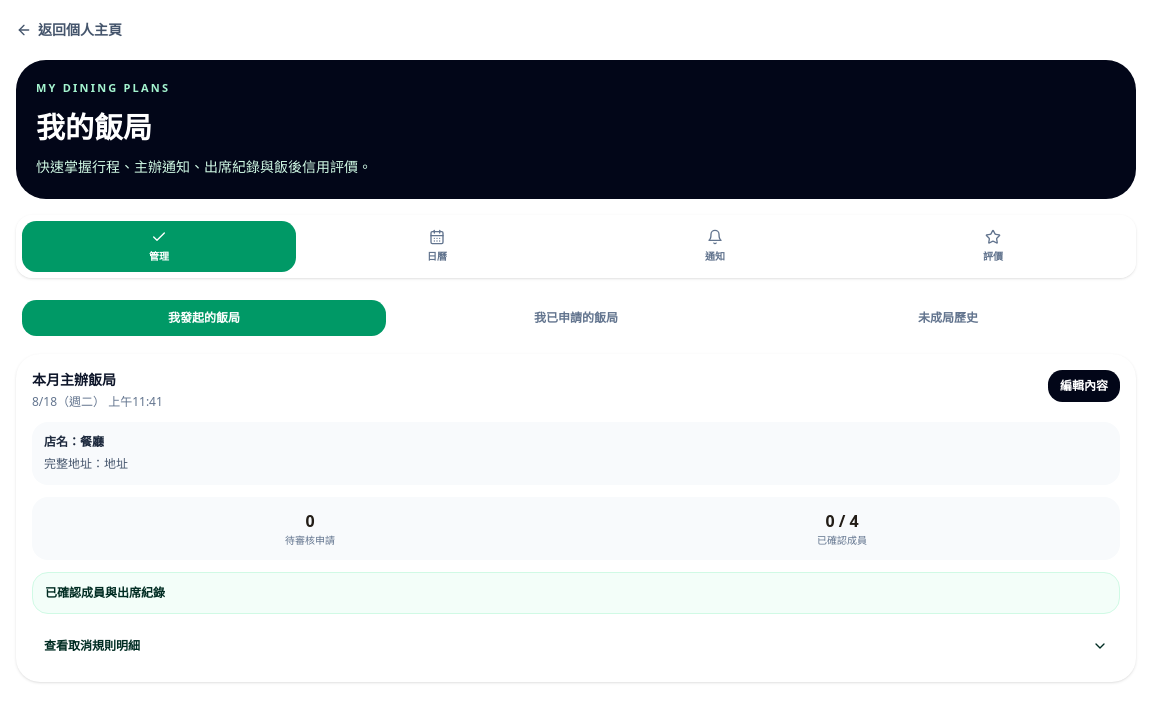
Test: MyEventsManagement 進階飯局管理 › 可依主辦與參與分類飯局，並切換該飯局的提醒狀態
The image size is (1152, 720).
Expected: the text "本月主辦飯局" is shown, [32, 370, 116, 389]
Click the button "日曆".
click(437, 246)  # box [300, 221, 574, 272]
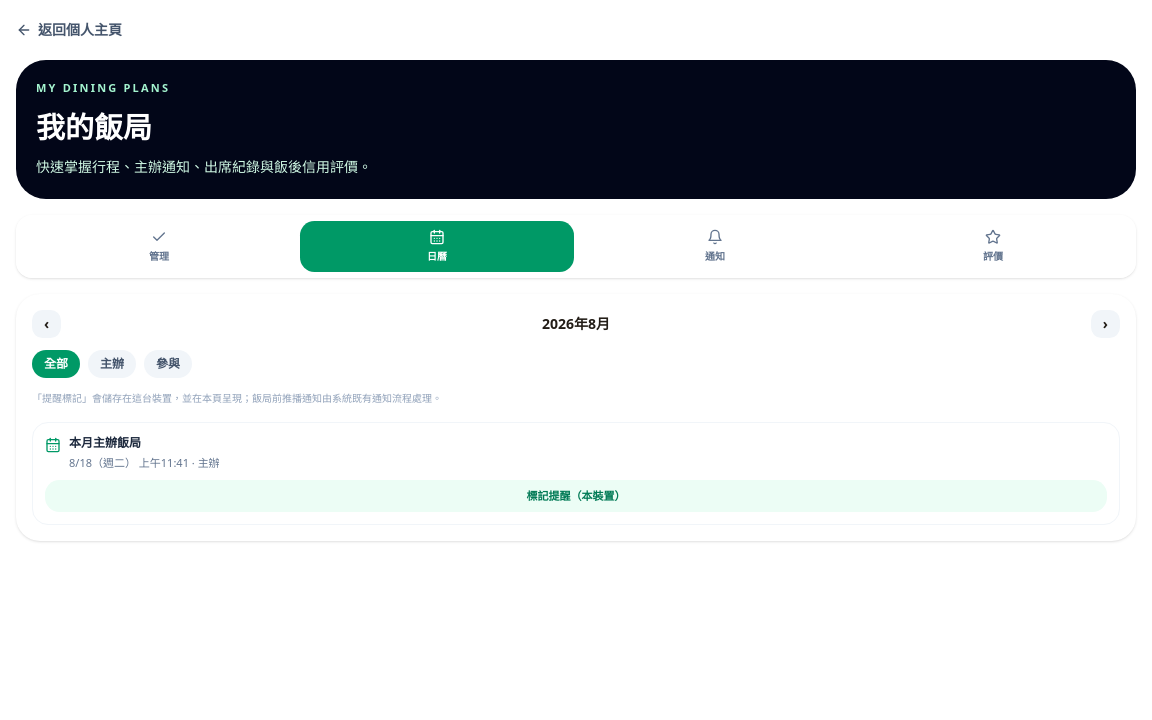
Expected: the text "本月主辦飯局" is shown, [69, 434, 141, 451]
Click the button "參與".
click(168, 364)  # box [144, 350, 192, 378]
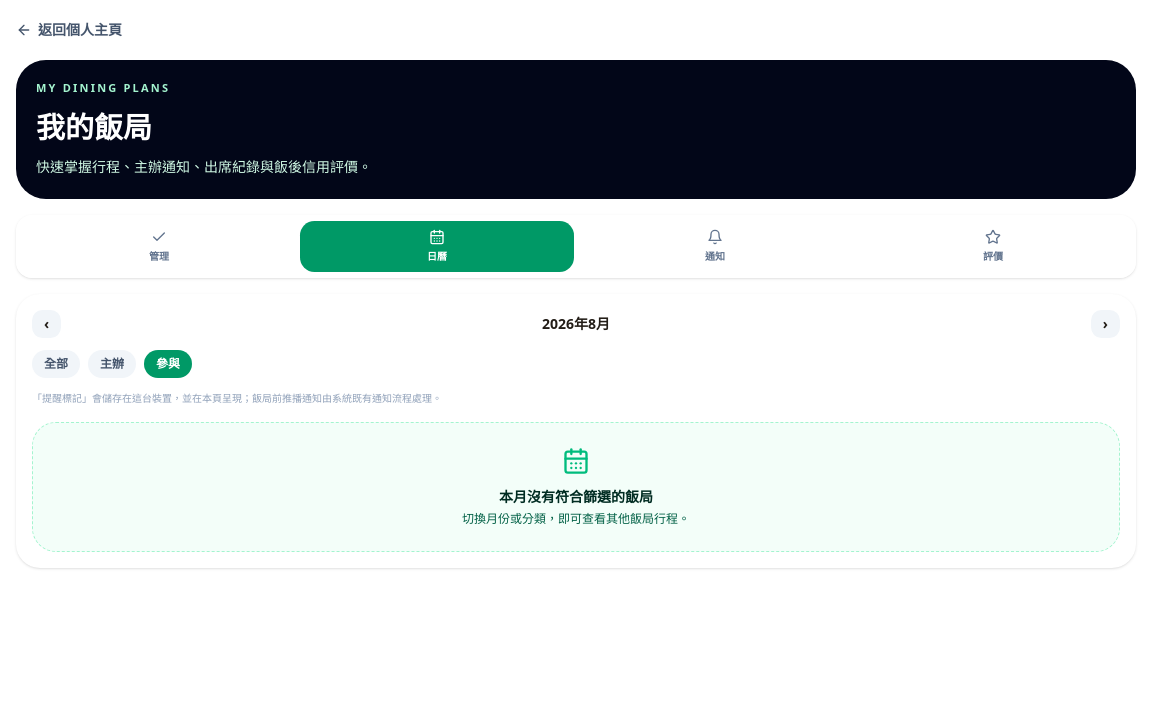
Expected: the text "本月沒有符合篩選的飯局" is shown, [499, 487, 653, 506]
Click the button "主辦".
click(112, 364)  # box [88, 350, 136, 378]
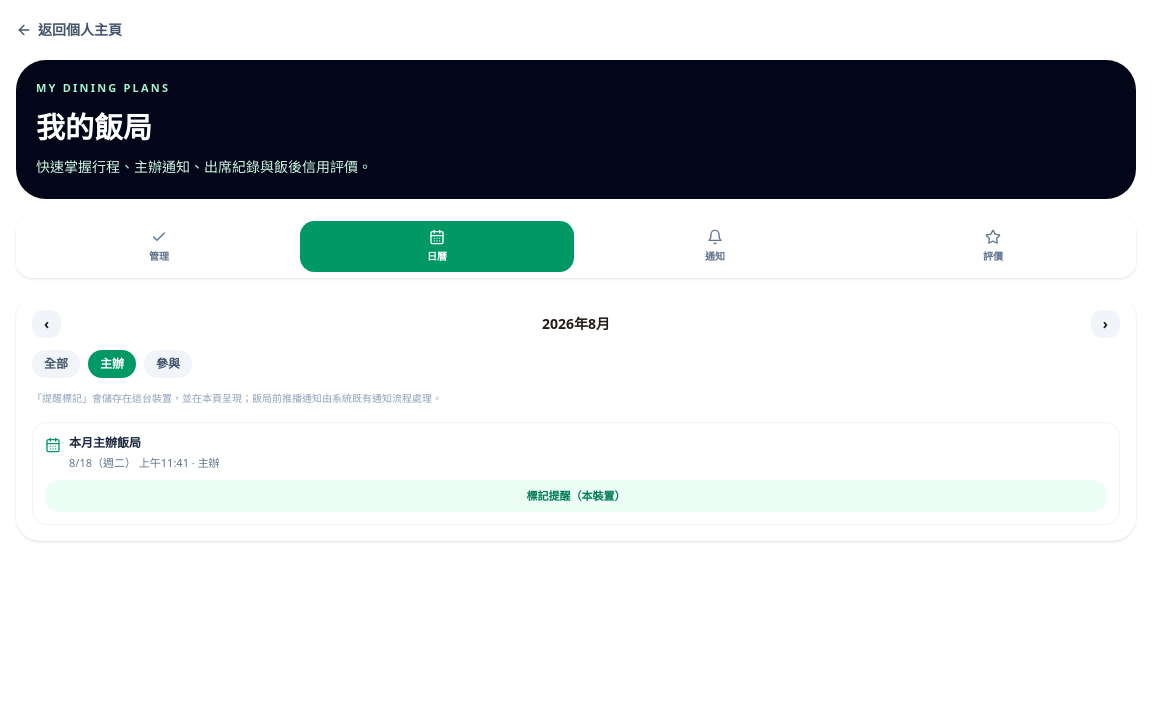
Click the button "標記提醒（本裝置）".
click(576, 496)  # box [45, 480, 1107, 512]
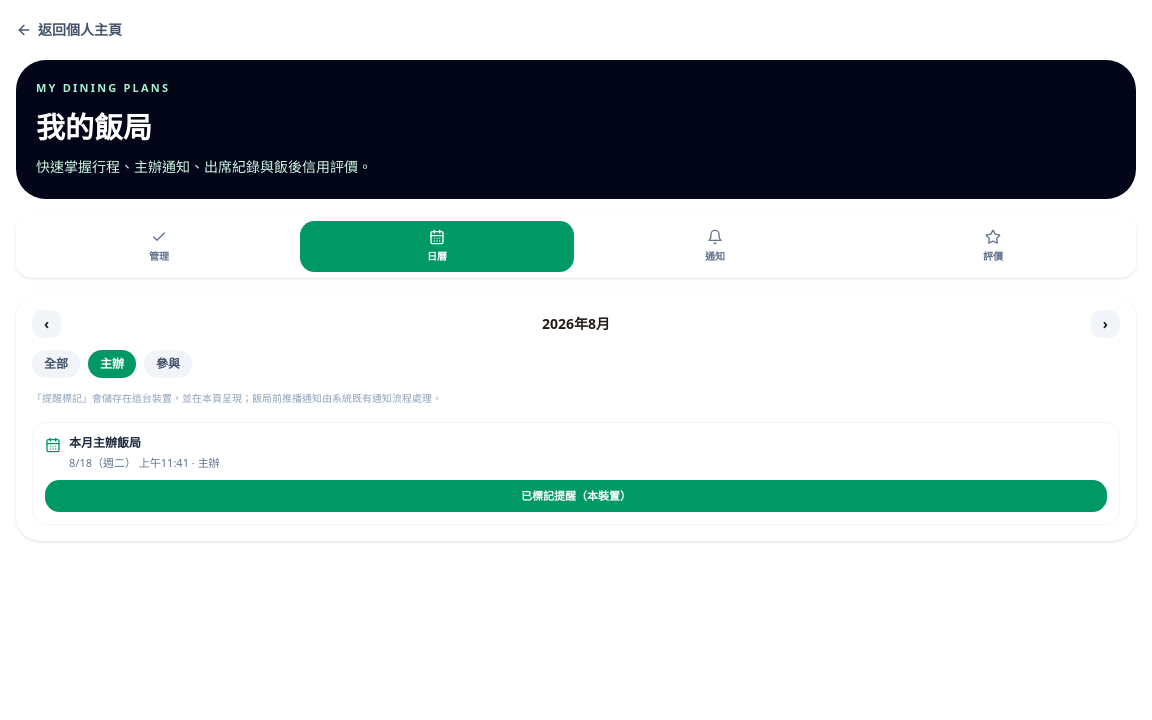
Expected: the button "已標記提醒（本裝置）" is shown, [45, 480, 1107, 512]
